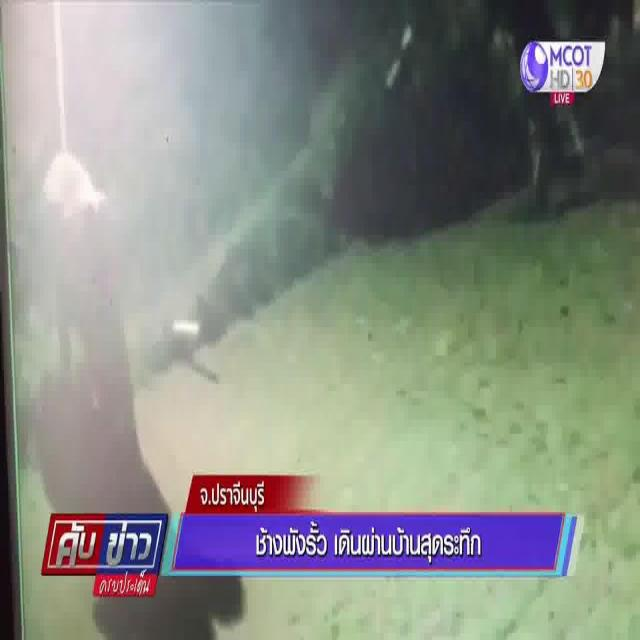Elephant: (33, 150, 130, 388)
